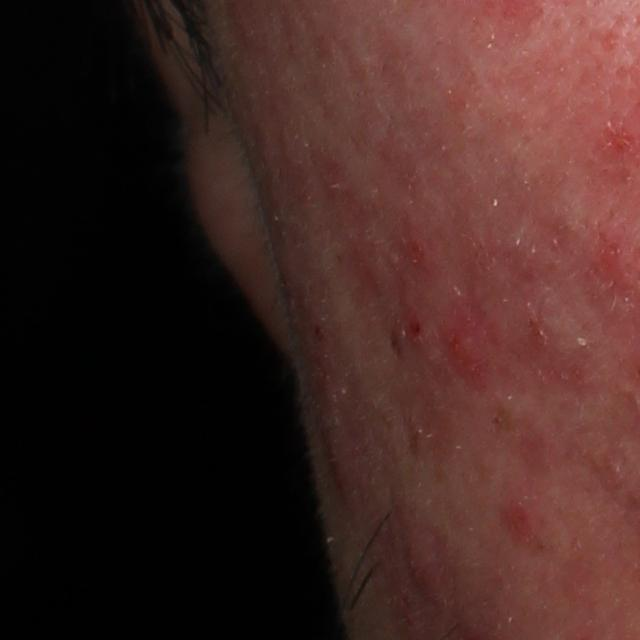papule: (395, 528, 451, 604), (511, 306, 585, 363), (443, 321, 501, 386), (494, 494, 540, 549), (592, 230, 633, 288)
